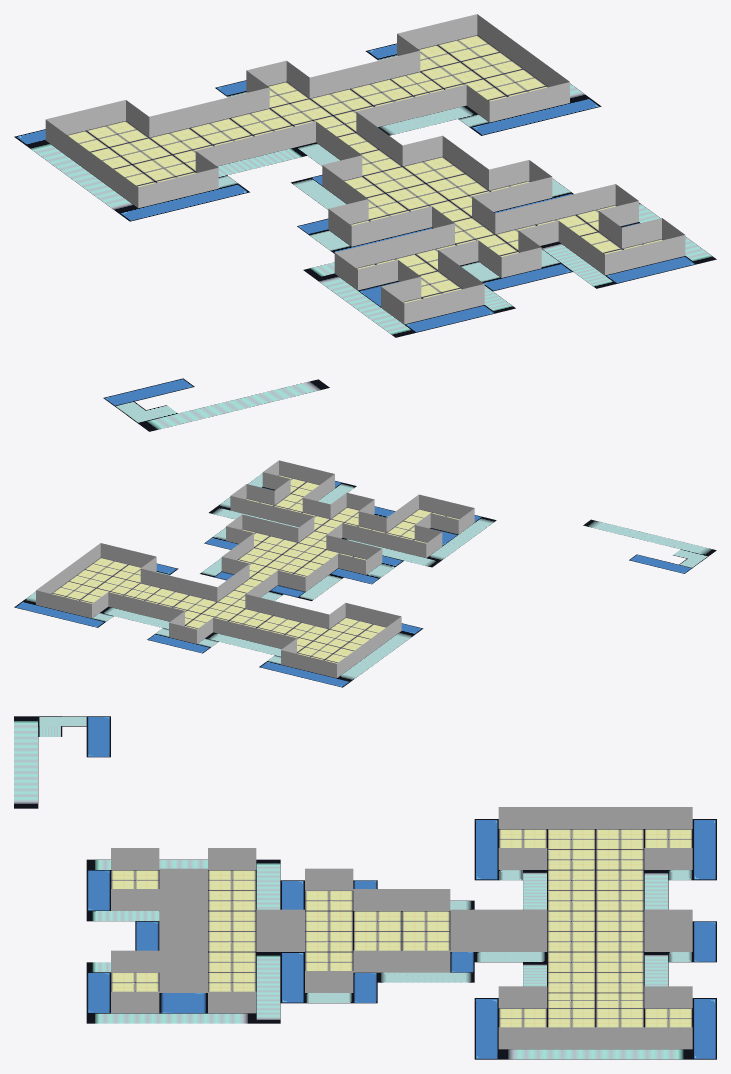
Rendered from map4.fbx.
The picture shows the model from 3 angles, top to bottom: view 1: azimuth 30°, elevation 25°; view 2: azimuth 150°, elevation 25°; view 3: azimuth 270°, elevation 25°; orthographic projection. The views are drawn at different scales.
Parts seen in each view (by area): view 1: Plane.046, Plane, Plane.011, Plane.044, Plane.027, Plane.040, Plane.043, Plane.034, Plane.021, Plane.020, Plane.016, Plane.031 (+5 smaller); view 2: Plane.046, Plane, Plane.011, Plane.044, Plane.027, Plane.038, Plane.039, Plane.023, Plane.022, Plane.001, Plane.016, Plane.026 (+1 smaller); view 3: Plane.046, Plane, Plane.011, Plane.045, Plane.028, Plane.002, Plane.039, Plane.043, Plane.038, Plane.040, Plane.004, Plane.001 (+17 smaller).
Boxes of the visible parts, x1,y1,x2,y2 form: Plane.046: (45, 14, 685, 324); Plane: (67, 35, 663, 303); Plane.011: (138, 379, 329, 431); Plane.044: (26, 140, 137, 212); Plane.027: (315, 273, 415, 337); Plane.040: (118, 184, 249, 221); Plane.043: (470, 98, 601, 135); Plane.034: (540, 241, 615, 288); Plane.021: (378, 105, 477, 135); Plane.020: (217, 147, 306, 177); Plane.016: (103, 378, 194, 406); Plane.031: (404, 305, 495, 332); Plane.046: (36, 460, 474, 678); Plane: (51, 475, 459, 663); Plane.011: (583, 519, 716, 555); Plane.044: (337, 631, 414, 681); Plane.027: (426, 517, 496, 561); Plane.038: (259, 661, 350, 687); Plane.039: (14, 601, 105, 627); Plane.023: (205, 632, 281, 656); Plane.022: (100, 607, 169, 629); Plane.001: (341, 538, 439, 567); Plane.016: (629, 554, 692, 573); Plane.026: (147, 634, 210, 653); Plane.046: (111, 807, 692, 1049); Plane: (111, 829, 692, 1027); Plane.011: (14, 716, 38, 808); Plane.045: (498, 1049, 692, 1059); Plane.028: (86, 1013, 256, 1023); Plane.002: (256, 952, 280, 1023); Plane.039: (692, 998, 716, 1059); Plane.043: (474, 998, 498, 1059); Plane.038: (692, 819, 716, 880); Plane.040: (474, 819, 498, 880); Plane.004: (280, 952, 304, 1003); Plane.001: (256, 859, 280, 909).
Size of the model in its own units: 6700 by 200 by 5800.
